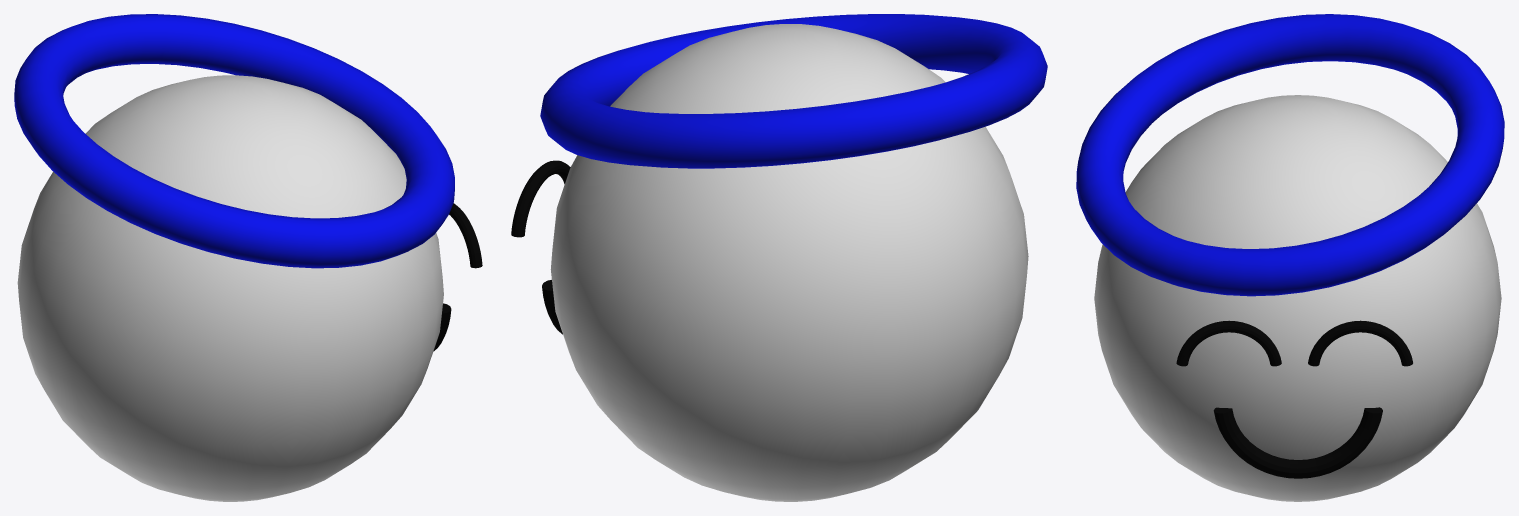
Rendered from angel_emoji.glb.
3 views of the same model, side by side, from view 1: azimuth 30°, elevation 25°; view 2: azimuth 150°, elevation 25°; view 3: azimuth 270°, elevation 25° (orthographic). The views are drawn at different scales.
Parts seen in each view (by area): view 1: Body, Lingkaran Atas, Torus.003; view 2: Body, Lingkaran Atas, Torus.005; view 3: Body, Lingkaran Atas, Mulut, Torus.003, Torus.005.
Boxes of the visible parts, left/top/right/bottom form: Body: left=17, top=75, right=443, bottom=501; Lingkaran Atas: left=14, top=14, right=454, bottom=268; Torus.003: left=449, top=203, right=482, bottom=268; Body: left=550, top=24, right=1028, bottom=501; Lingkaran Atas: left=540, top=14, right=1047, bottom=168; Torus.005: left=511, top=160, right=570, bottom=237; Body: left=1094, top=95, right=1501, bottom=501; Lingkaran Atas: left=1076, top=14, right=1504, bottom=296; Mulut: left=1213, top=407, right=1382, bottom=478; Torus.003: left=1176, top=320, right=1281, bottom=366; Torus.005: left=1308, top=320, right=1412, bottom=366.
Size of the model in its own units: 3.43 by 3.49 by 3.45.
